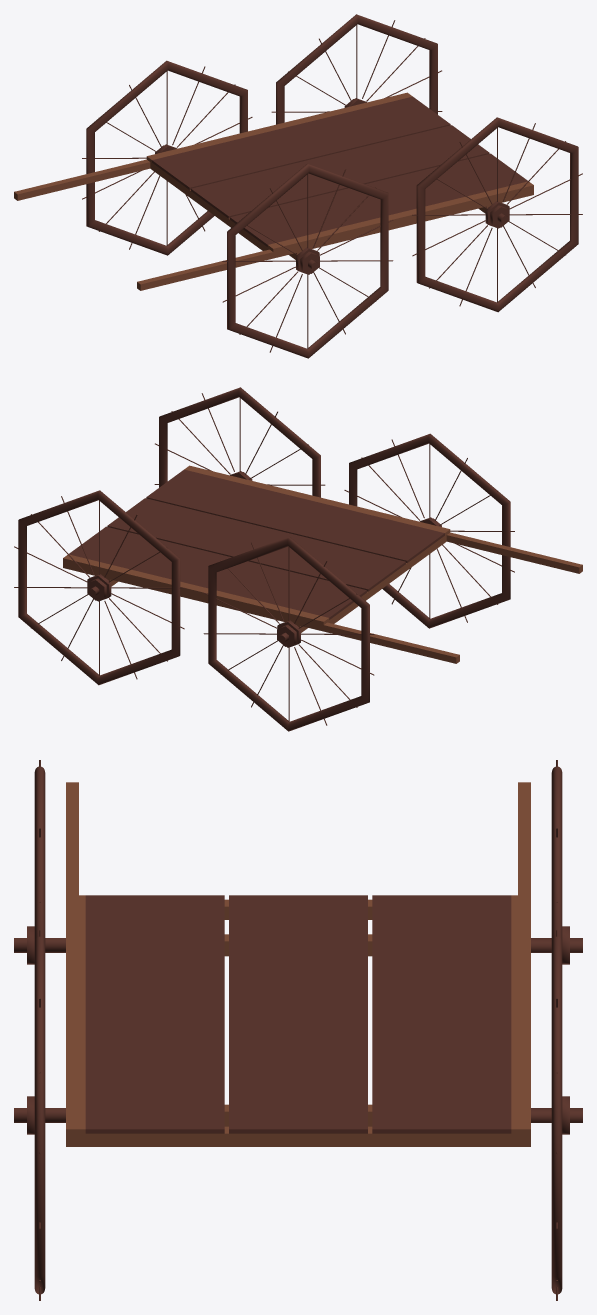
File: Carts and Wagons(2).glb
3 views of the same model, one above another, from view 1: azimuth 30°, elevation 25°; view 2: azimuth 150°, elevation 25°; view 3: azimuth 270°, elevation 25° (orthographic). The views are drawn at different scales.
Parts seen in each view (by area): view 1: Root; view 2: Root; view 3: Root.
Part boxes in pixels (<box>): Root: <box>14,14,582,358</box>; Root: <box>14,387,582,731</box>; Root: <box>14,760,582,1300</box>.
Size of the model in its own units: 5.34 by 2.28 by 3.29.
